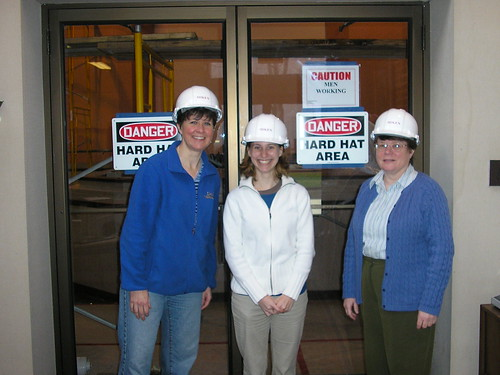person hardhat: (346, 106, 459, 375), (129, 78, 220, 370), (233, 105, 321, 375)
